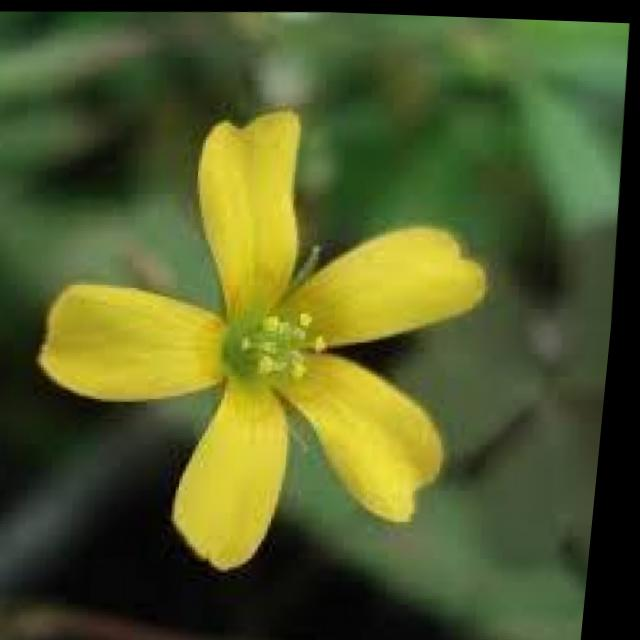Flower: (1, 92, 525, 589)
